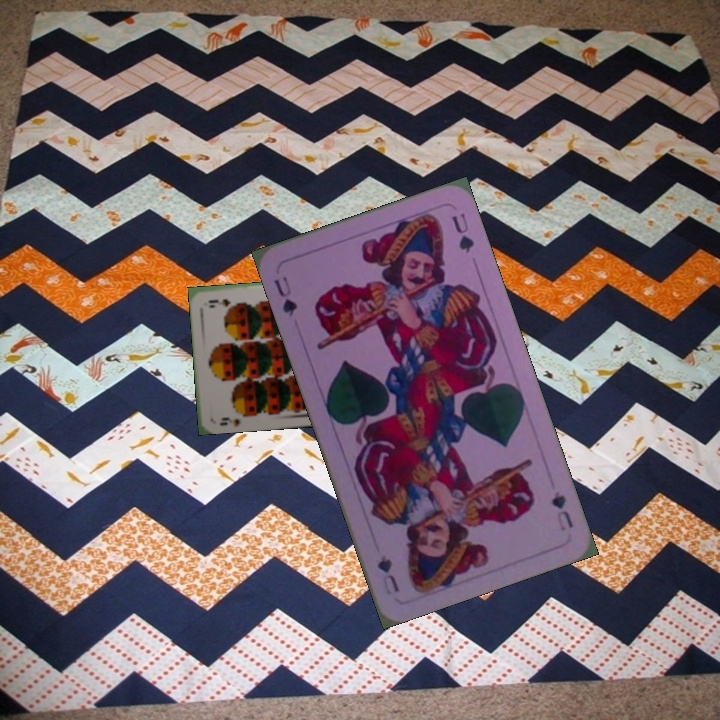GU: (270, 272, 300, 319), (547, 487, 576, 534)
S9: (216, 408, 253, 428)
